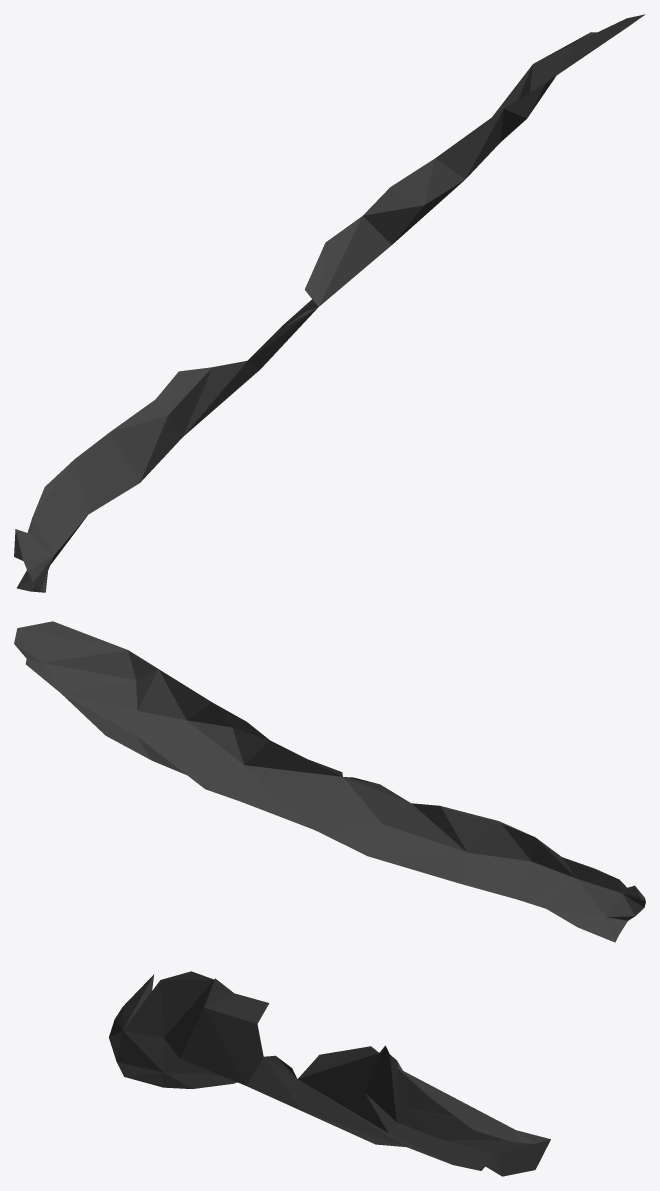
File: A_gluteal_caud_L_A_gluteal_caud_L.glb
3 views of the same model, one above another, from view 1: azimuth 30°, elevation 25°; view 2: azimuth 150°, elevation 25°; view 3: azimuth 270°, elevation 25° (orthographic). The views are drawn at different scales.
Parts seen in each view (by area): view 1: A_gluteal_caud_L_A_gluteal_caud_L; view 2: A_gluteal_caud_L_A_gluteal_caud_L; view 3: A_gluteal_caud_L_A_gluteal_caud_L.
Boxes of the visible parts, bbox=[...] form: A_gluteal_caud_L_A_gluteal_caud_L: bbox=[14, 14, 645, 592]; A_gluteal_caud_L_A_gluteal_caud_L: bbox=[14, 621, 645, 942]; A_gluteal_caud_L_A_gluteal_caud_L: bbox=[109, 971, 550, 1176].
Size of the model in its own units: 0.0173 by 0.00737 by 0.00611.
Materials: 1 (1 with a texture image).
